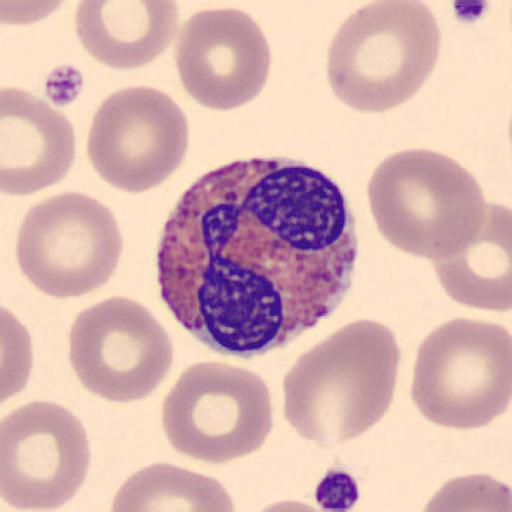Platelet: (312, 464, 364, 512), (42, 59, 89, 110)
RBC: (281, 318, 400, 448), (365, 146, 488, 262), (324, 0, 442, 114), (14, 189, 125, 300), (160, 359, 275, 466), (67, 293, 175, 405), (409, 315, 512, 432), (86, 82, 190, 194), (174, 6, 272, 112), (2, 398, 92, 512), (432, 199, 512, 312), (1, 84, 77, 197), (74, 1, 181, 71), (109, 461, 237, 512), (418, 471, 512, 512), (1, 306, 33, 406), (1, 0, 73, 25), (244, 496, 336, 512)
WBC: (155, 156, 363, 359)
